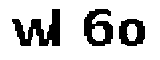6: (82, 4, 114, 53)
l: (51, 6, 72, 52)
o: (119, 14, 147, 49)
w: (7, 15, 52, 52)
